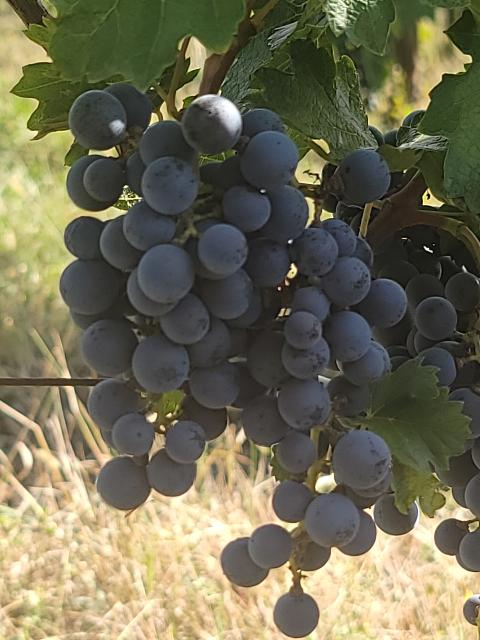grapes: (60, 84, 311, 509), (229, 204, 418, 580)
